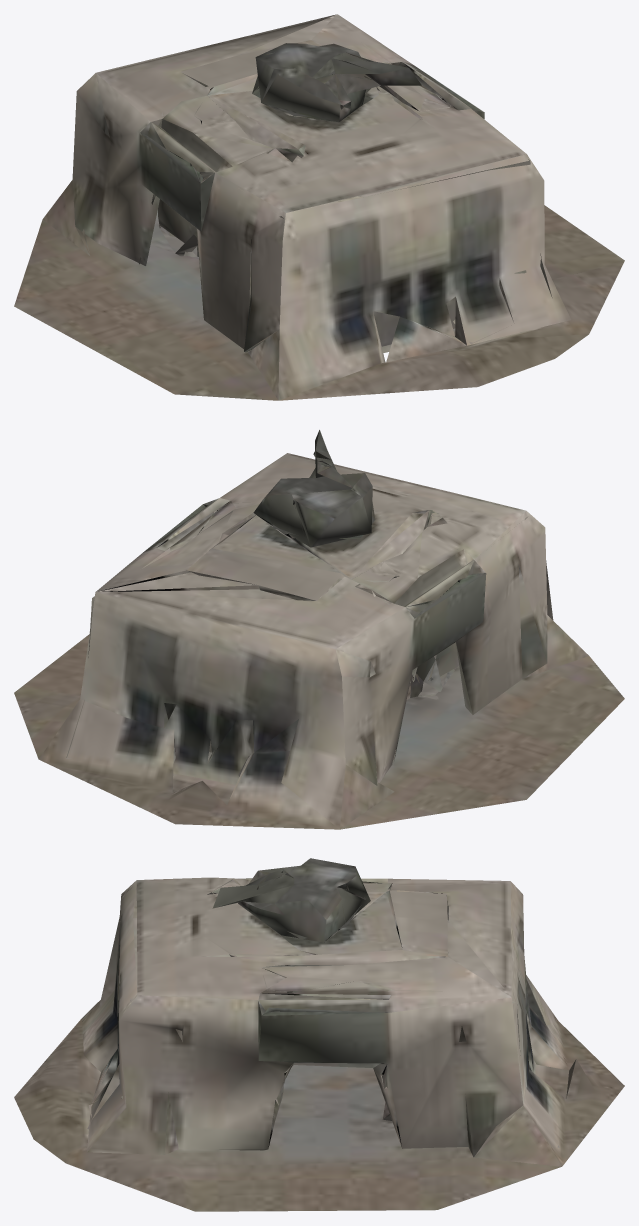
The model's file is bunker_1230409187_lod0.glb.
3 renders of one model, top to bottom at view 1: azimuth 30°, elevation 25°; view 2: azimuth 150°, elevation 25°; view 3: azimuth 270°, elevation 25°, orthographic. The views are drawn at different scales.
Bounding box in the file's own units: 8.38 × 3.71 × 8.99.
Materials: 1 (1 with a texture image).
